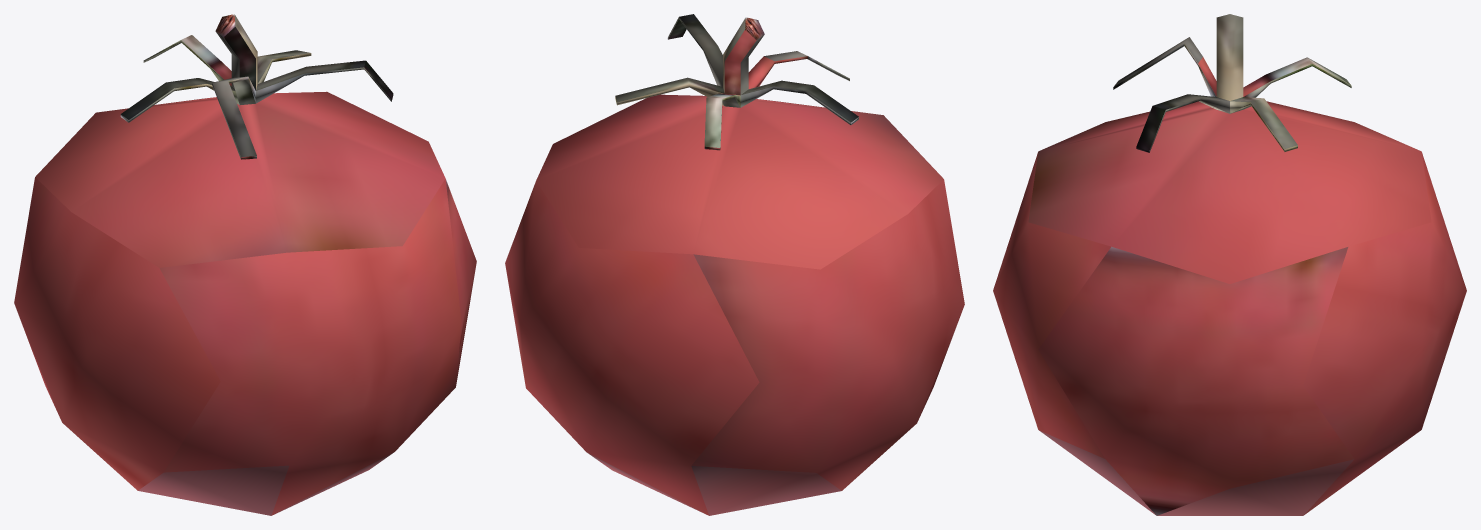
The model's file is dan tomato.glb.
3 views of the same model, side by side, from view 1: azimuth 30°, elevation 25°; view 2: azimuth 150°, elevation 25°; view 3: azimuth 270°, elevation 25° (orthographic).
Visible parts, largest first — view 1: Icosphere; view 2: Icosphere; view 3: Icosphere.
Boxes of the visible parts, x1,y1,x2,y2 form: Icosphere: [14, 14, 476, 515]; Icosphere: [505, 14, 964, 515]; Icosphere: [993, 14, 1466, 515].
Bounding box in the file's own units: 1.9 × 2.11 × 2.
Materials: 1 (1 with a texture image).
